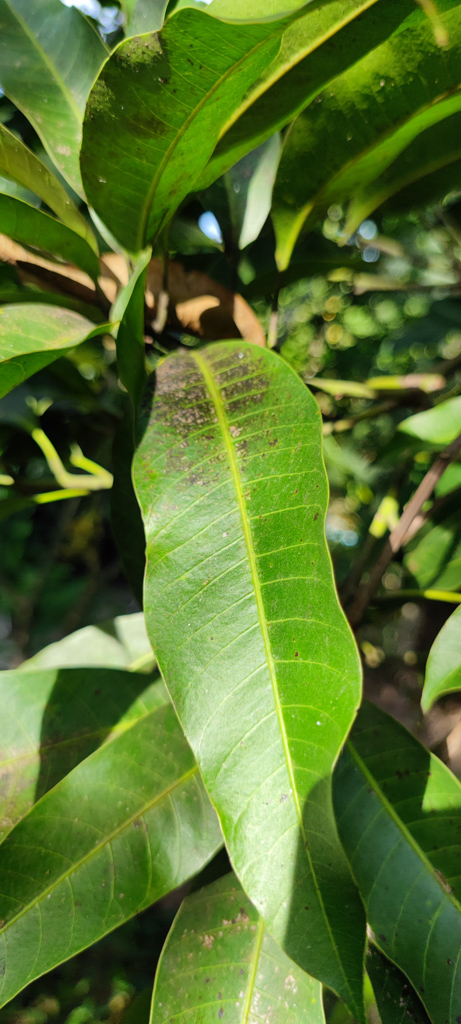Rust: (144, 336, 296, 542), (174, 884, 313, 1020)
